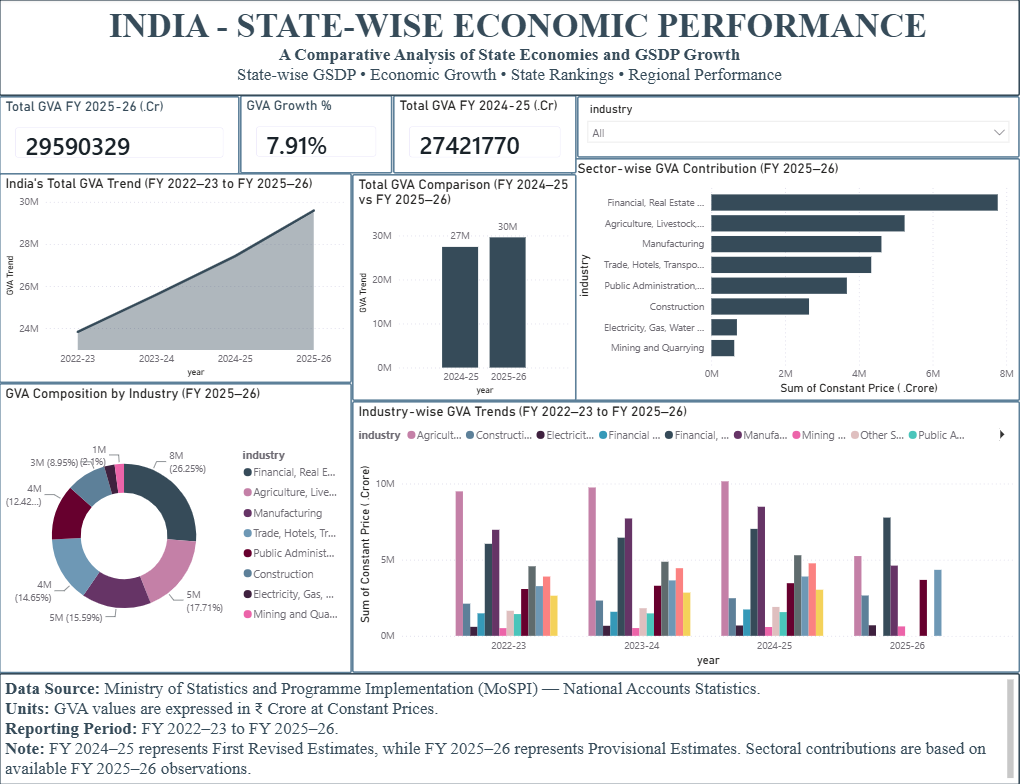

What the dashboard file says about the page in this screenshot:
{"tool":"powerbi","page":{"name":"Sectoral Economic Performance","canvas":[1273,980],"ordinal":5},"visuals":[{"type":"cardVisual","title":"Total GVA FY 2025-26 (.Cr)","fields":{"Data":["Fact_GVA.Latest Total GVA"]},"box":[0,120.8,300.4,97.5],"z":0},{"type":"cardVisual","title":"GVA Growth %","fields":{"Data":["Fact_GVA.GVA Growth %"]},"box":[300.4,119.2,190.5,97.5],"z":1000},{"type":"lineChart","title":"India''s Total GVA Trend (FY 2022–23 to FY 2025–26)","fields":{"Category":["Fact_GVA.year"],"Y":["Fact_GVA.GVA Trend"]},"box":[0,216.8,439.7,261.7],"z":2000},{"type":"clusteredBarChart","title":"Sector-wise GVA Contribution (FY 2025–26)","fields":{"Category":["Fact_GVA.industry"],"Y":["Sum(Fact_GVA.Constant Price ( .Crore))"]},"box":[713.1,198.2,559.8,303],"z":3000},{"type":"donutChart","title":"GVA Composition by Industry (FY 2025–26)","fields":{"Category":["Fact_GVA.industry"],"Y":["Sum(Fact_GVA.Constant Price ( .Crore))"]},"box":[0,478.5,439.7,362.3],"z":4000},{"type":"clusteredColumnChart","title":"Industry-wise GVA Trends (FY 2022–23 to FY 2025–26)","fields":{"Category":["Fact_GVA.year"],"Y":["Sum(Fact_GVA.Constant Price ( .Crore))"],"Series":["Fact_GVA.industry"]},"box":[440.1,501.2,832.8,339.1],"z":5000},{"type":"slicer","fields":{"Values":["Fact_GVA.industry"]},"box":[720.6,120.9,552.3,77.3],"z":6000},{"type":"cardVisual","title":"Total GVA FY 2024-25 (.Cr)","fields":{"Data":["Fact_GVA.Total GVA FY 2024-25"]},"box":[491.2,119.7,229.4,98.5],"z":7000},{"type":"clusteredColumnChart","title":"Total GVA Comparison (FY 2024–25 vs FY 2025–26)","fields":{"Category":["Fact_GVA.year"],"Y":["Fact_GVA.GVA Trend"]},"box":[439.7,218.3,280.3,283.4],"z":8000},{"type":"textbox","box":[0,840.3,1272.9,139.6],"z":9000},{"type":"textbox","box":[0,0,1272.9,120.9],"z":10000}]}

Visuals, with their boxes in screenshot pixels (x1, y1, x2, y2), scaled from the page's 1273x980 canvas onto the 1020x784 screenshot:
"Total GVA FY 2025-26 (.Cr)" cardVisual: bbox=[0, 97, 241, 175]
"GVA Growth %" cardVisual: bbox=[241, 95, 393, 173]
"India''s Total GVA Trend (FY 2022–23 to FY 2025–26)" lineChart: bbox=[0, 173, 352, 383]
"Sector-wise GVA Contribution (FY 2025–26)" clusteredBarChart: bbox=[571, 159, 1019, 401]
"GVA Composition by Industry (FY 2025–26)" donutChart: bbox=[0, 383, 352, 673]
"Industry-wise GVA Trends (FY 2022–23 to FY 2025–26)" clusteredColumnChart: bbox=[353, 401, 1019, 672]
slicer - Fact_GVA.industry: bbox=[577, 97, 1019, 159]
"Total GVA FY 2024-25 (.Cr)" cardVisual: bbox=[394, 96, 577, 175]
"Total GVA Comparison (FY 2024–25 vs FY 2025–26)" clusteredColumnChart: bbox=[352, 175, 577, 401]
textbox: bbox=[0, 672, 1019, 783]
textbox: bbox=[0, 0, 1019, 97]
